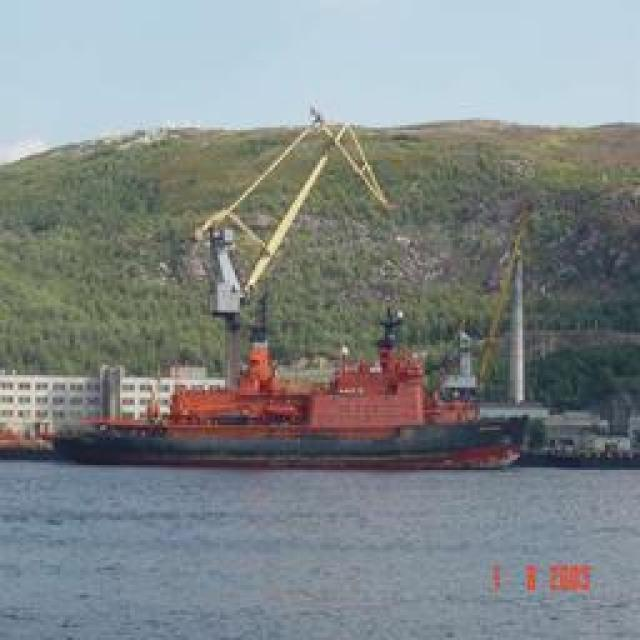ship2: (53, 319, 542, 471)
